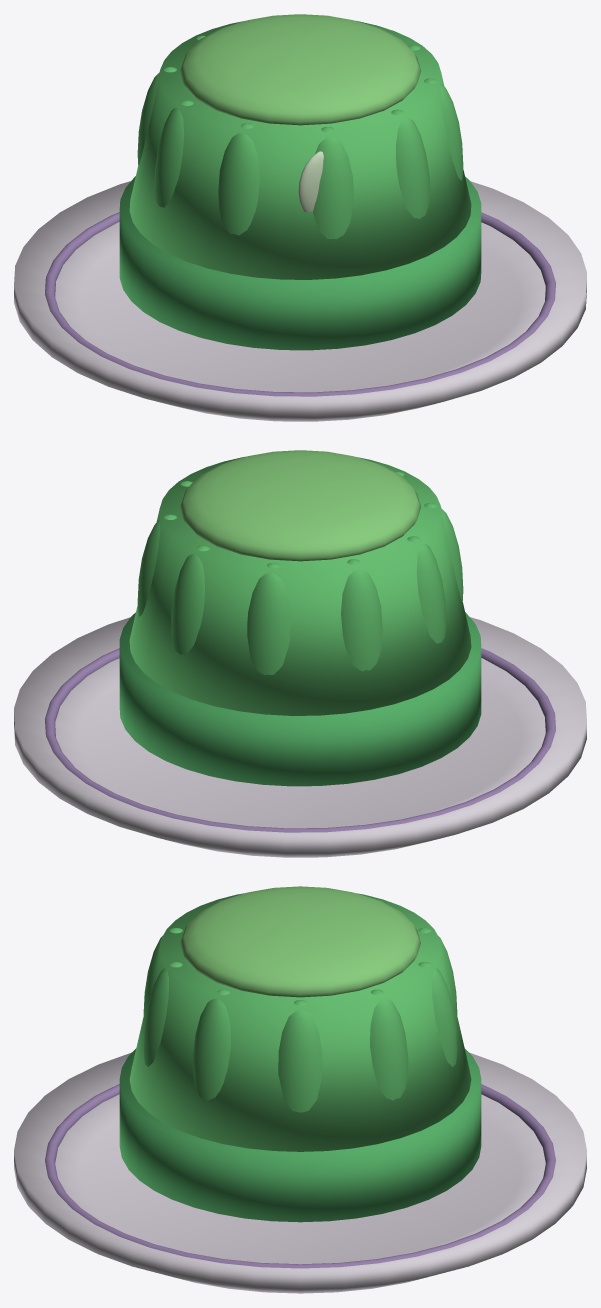
The model's file is goojelly.glb.
The picture shows the model from 3 angles, top to bottom: view 1: azimuth 30°, elevation 25°; view 2: azimuth 150°, elevation 25°; view 3: azimuth 270°, elevation 25°; orthographic projection.
Parts seen in each view (by area): view 1: _plate_plate, _jelly-belly_jelly_belly, _jelly-base_jelly_base, _jelly-top_jelly_crown; view 2: _plate_plate, _jelly-belly_jelly_belly, _jelly-base_jelly_base, _jelly-top_jelly_crown; view 3: _plate_plate, _jelly-belly_jelly_belly, _jelly-base_jelly_base, _jelly-top_jelly_crown.
Part boxes in pixels (box(x1,y1,x2,y2)): _plate_plate: box(14, 181, 586, 421); _jelly-belly_jelly_belly: box(129, 21, 471, 279); _jelly-base_jelly_base: box(119, 176, 481, 350); _jelly-top_jelly_crown: box(180, 14, 420, 125); _plate_plate: box(14, 617, 586, 857); _jelly-belly_jelly_belly: box(129, 457, 471, 715); _jelly-base_jelly_base: box(119, 612, 481, 786); _jelly-top_jelly_crown: box(180, 450, 420, 561); _plate_plate: box(14, 1052, 586, 1293); _jelly-belly_jelly_belly: box(129, 893, 471, 1151); _jelly-base_jelly_base: box(119, 1048, 481, 1222); _jelly-top_jelly_crown: box(180, 886, 420, 997).
Bounding box in the file's own units: 1.14 × 0.61 × 1.14.
